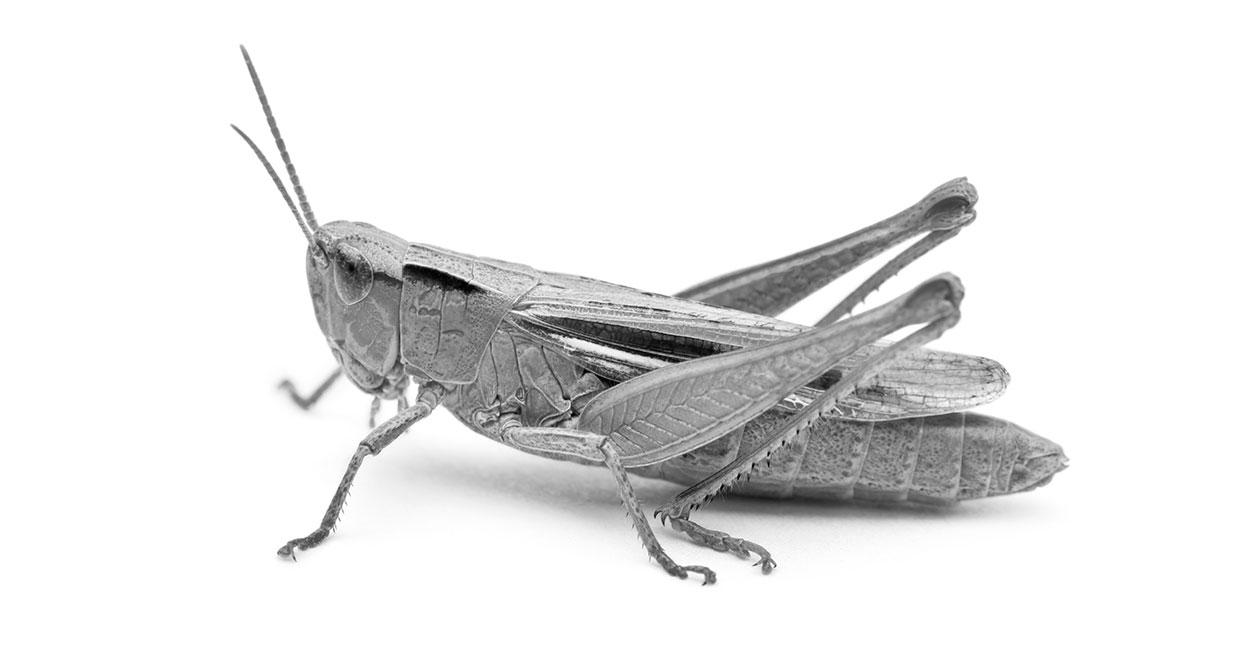insect: (213, 39, 1083, 591)
